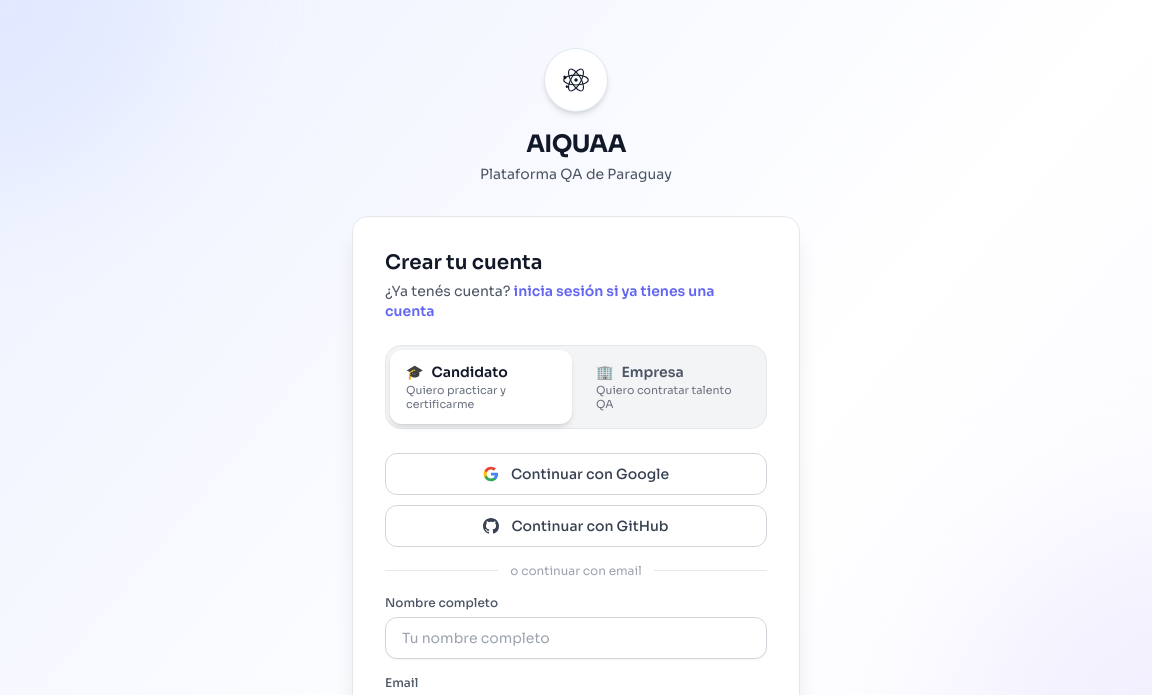
RegisterForm › Form Validation › muestra error si el email está vacío
Type "John Doe" into the field labelled "Nombre completo" at (576,638), box [385,616,767,658]
(page scrolled)
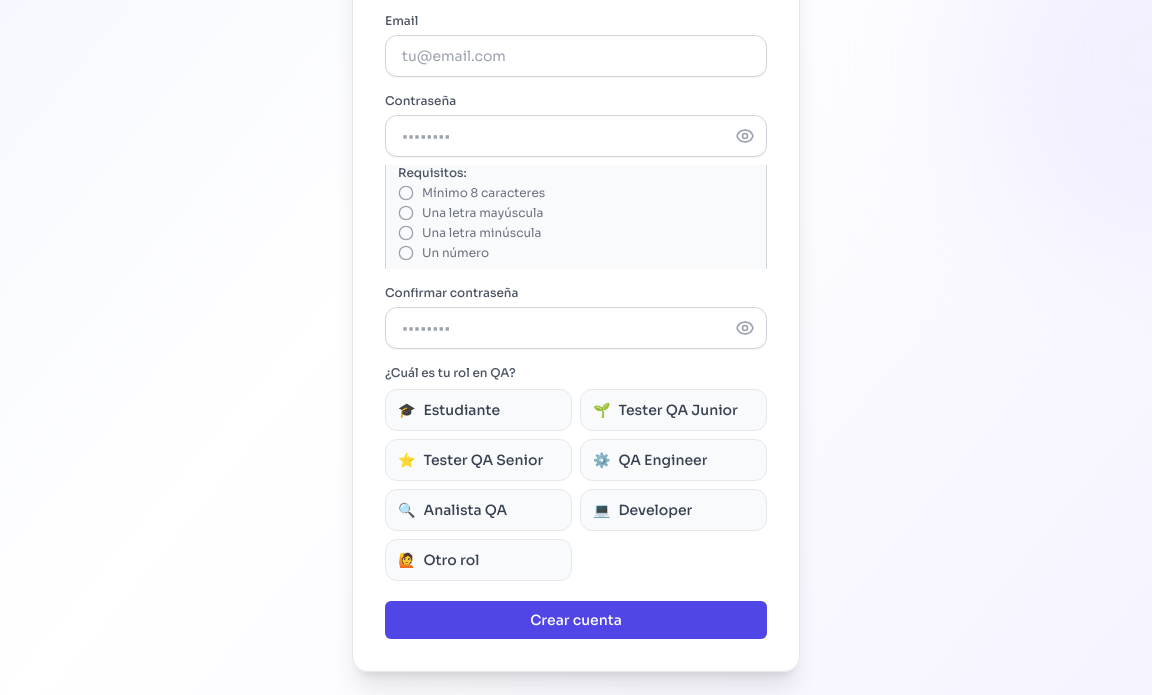
Click the button "Crear cuenta" at (576,620), box [385,600,767,638]
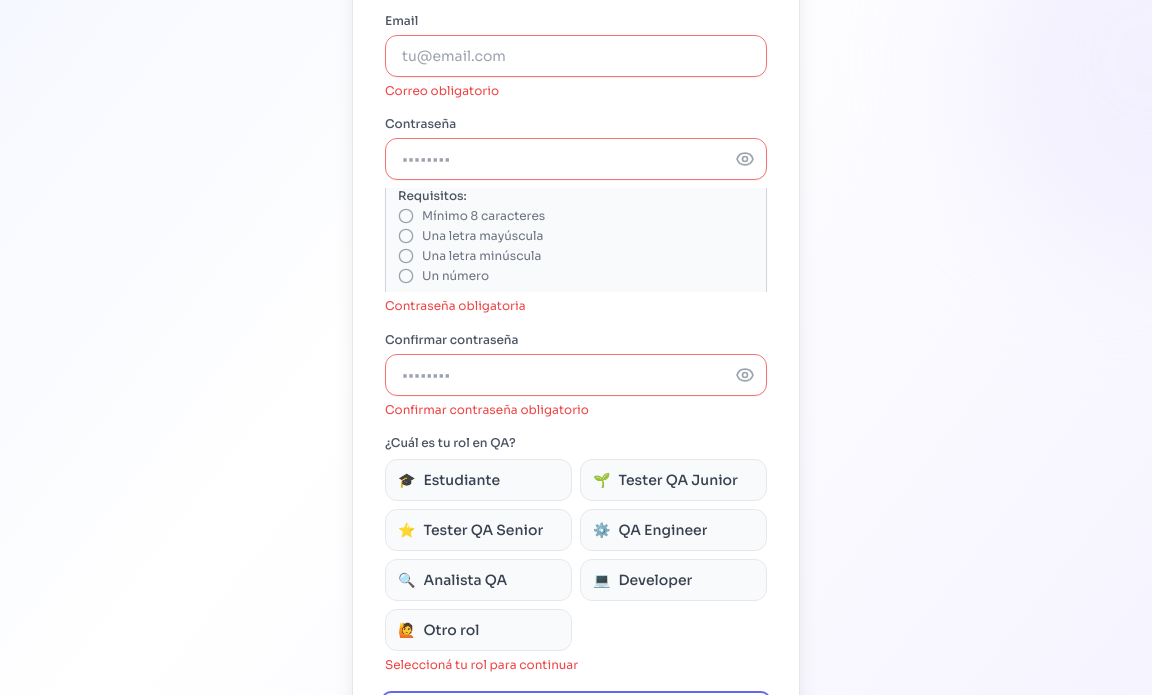
Expected: the text "Correo obligatorio" is shown, [385,82,499,98]
